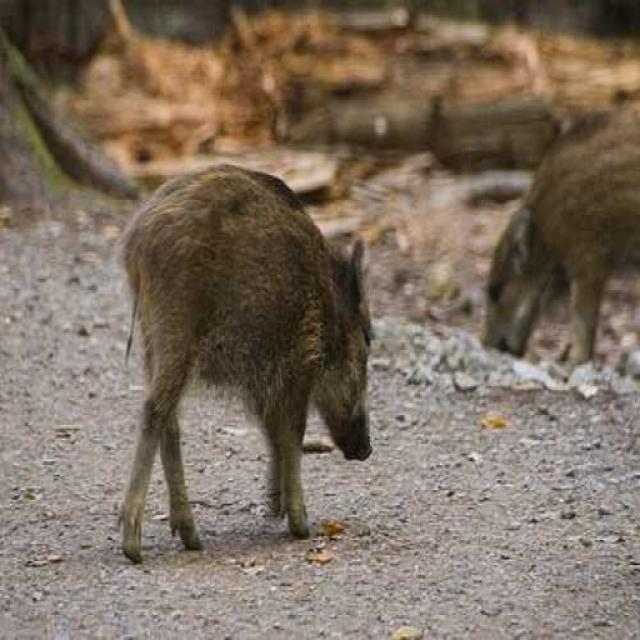pig: (72, 84, 454, 598), (463, 86, 640, 371)
